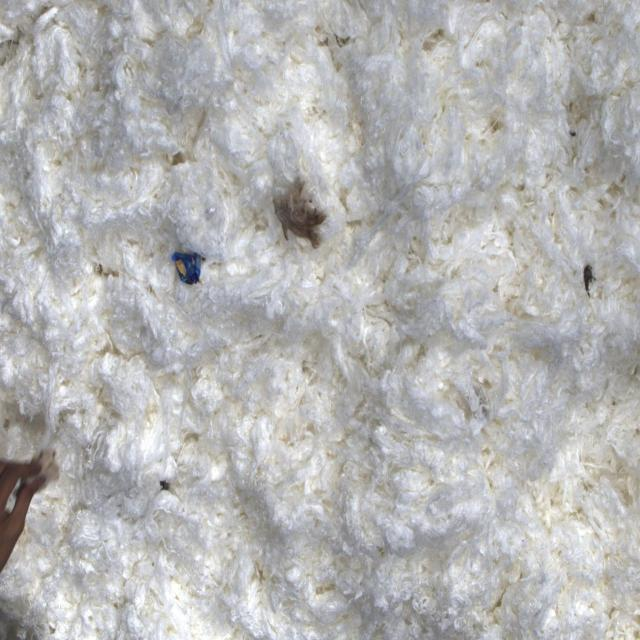dust: (0, 458, 67, 640), (260, 142, 334, 263), (162, 210, 218, 324), (574, 251, 603, 308), (153, 462, 177, 503)
